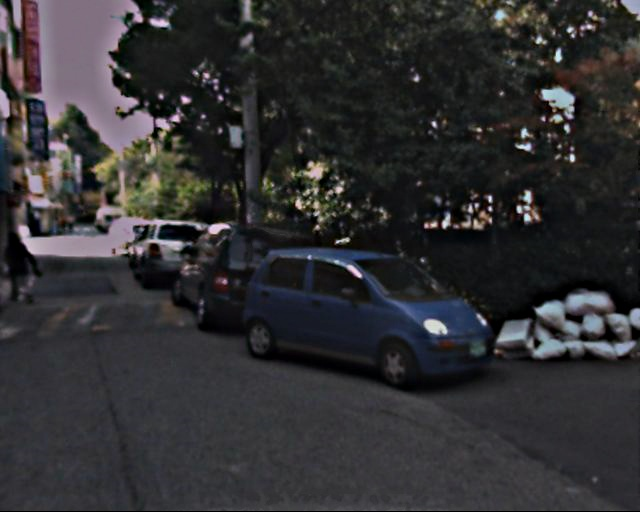person: (6, 226, 42, 306)
